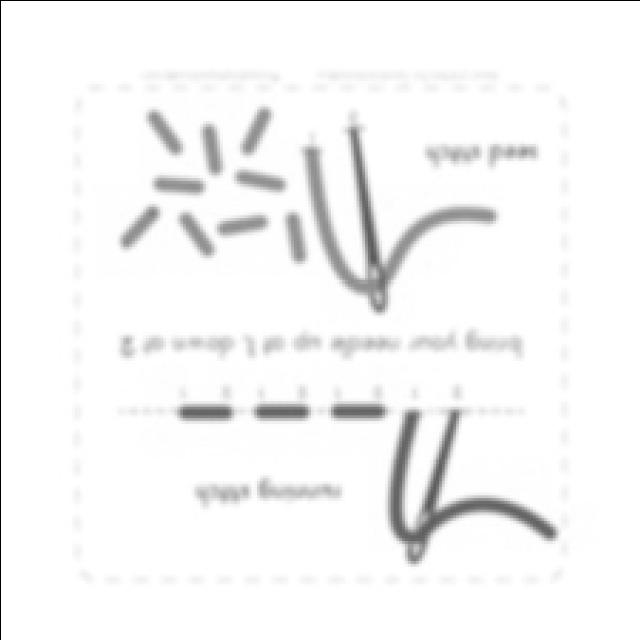stitch: (120, 206, 158, 247), (146, 110, 181, 153), (179, 214, 214, 256), (241, 107, 270, 154), (235, 170, 284, 192), (218, 214, 266, 236), (176, 404, 232, 422), (201, 124, 221, 174), (252, 403, 309, 420), (285, 214, 305, 262), (152, 176, 204, 194), (330, 403, 385, 419)
